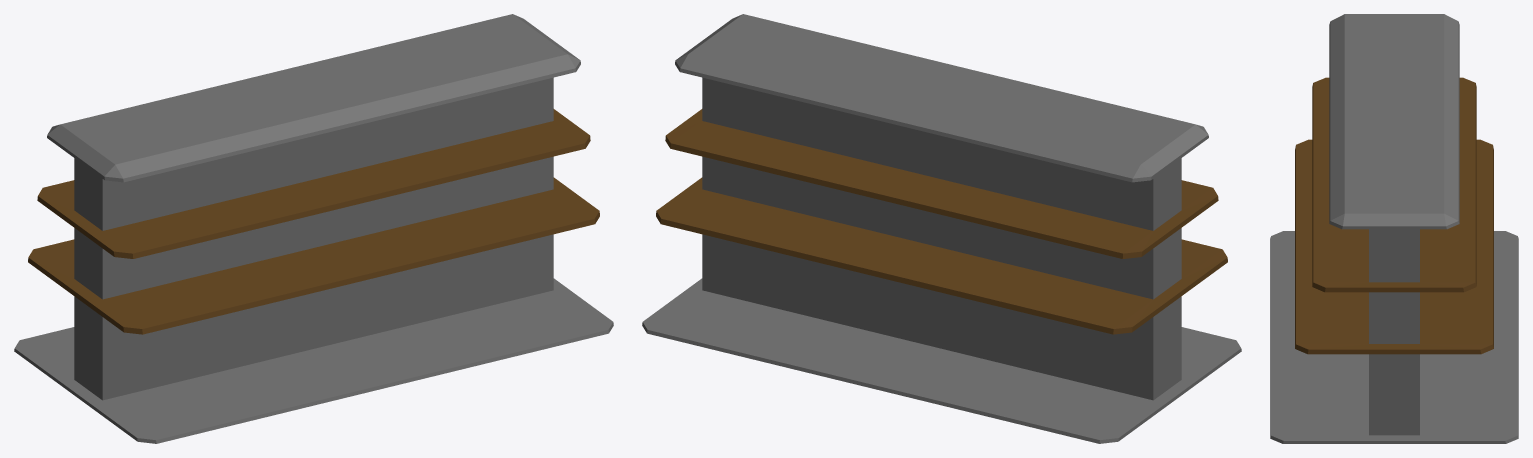
Rendered from Shelf.fbx.
3 views of the same model, side by side, from view 1: azimuth 30°, elevation 25°; view 2: azimuth 150°, elevation 25°; view 3: azimuth 270°, elevation 25° (orthographic). The views are drawn at different scales.
Parts seen in each view (by area): view 1: Shelf, Board_Bottom, Board_Top; view 2: Shelf, Board_Bottom, Board_Top; view 3: Shelf, Board_Bottom, Board_Top.
Part boxes in pixels (x1,y1,x2,y2): Shelf: (14,14,613,443); Board_Bottom: (28,177,599,334); Board_Top: (37,109,590,258); Shelf: (642,14,1241,443); Board_Bottom: (656,177,1227,334); Board_Top: (665,109,1218,258); Shelf: (1270,14,1518,443); Board_Bottom: (1295,139,1493,354); Board_Top: (1312,77,1476,292).
Bounding box in the file's own units: 400 × 200 × 200.
